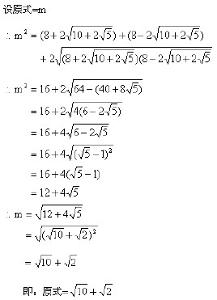sqrt: (56, 45, 145, 71), (67, 78, 149, 99), (35, 224, 100, 245), (67, 100, 129, 122), (65, 21, 117, 45), (154, 22, 203, 47), (164, 47, 212, 69), (67, 143, 117, 164), (67, 122, 117, 142), (34, 202, 84, 220), (86, 48, 135, 66), (31, 254, 56, 271), (70, 282, 88, 299), (64, 252, 79, 271), (98, 27, 113, 43), (123, 49, 138, 65), (98, 283, 113, 299), (127, 80, 141, 97), (66, 185, 83, 199), (188, 28, 201, 43), (96, 125, 110, 138), (78, 145, 91, 159), (73, 165, 85, 179), (200, 51, 210, 65), (108, 102, 117, 117)
square: (22, 26, 30, 38), (22, 82, 27, 88)
